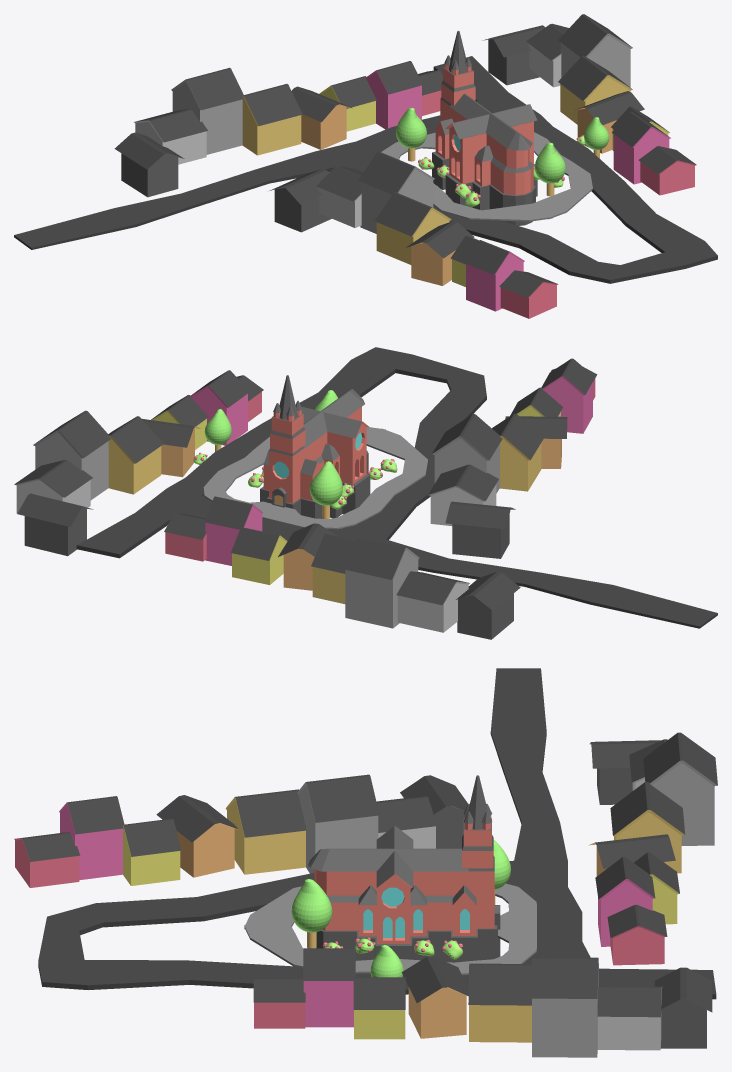
The model's file is World.fbx.
The picture shows the model from 3 angles, top to bottom: view 1: azimuth 30°, elevation 25°; view 2: azimuth 150°, elevation 25°; view 3: azimuth 270°, elevation 25°; orthographic projection. The views are drawn at different scales.
Parts seen in each view (by area): view 1: Cube, Cube.002, Cube.001, Church, Cube.007, Tree; view 2: Cube.002, Cube, Cube.007, Church, Cube.001, Tree; view 3: Cube.007, Cube.001, Church, Cube, Cube.002, Tree.
Part boxes in pixels (x1,y1,x2,y2): Cube: (14, 56, 717, 283); Cube.002: (114, 61, 442, 197); Cube.001: (269, 151, 558, 318); Church: (381, 30, 592, 225); Cube.007: (482, 14, 696, 195); Tree: (584, 117, 609, 158); Cube.002: (164, 496, 520, 639); Cube: (76, 347, 717, 628); Cube.007: (14, 370, 263, 556); Church: (203, 375, 427, 529); Cube.001: (428, 358, 597, 558); Tree: (204, 409, 231, 451); Cube.007: (253, 948, 712, 1057); Cube.001: (14, 774, 467, 887); Church: (244, 775, 536, 974); Cube: (38, 668, 716, 999); Cube.002: (589, 732, 717, 965); Tree: (370, 945, 403, 977).
Size of what is drawn, in the model's own units: 13229 by 2991 by 10326.
